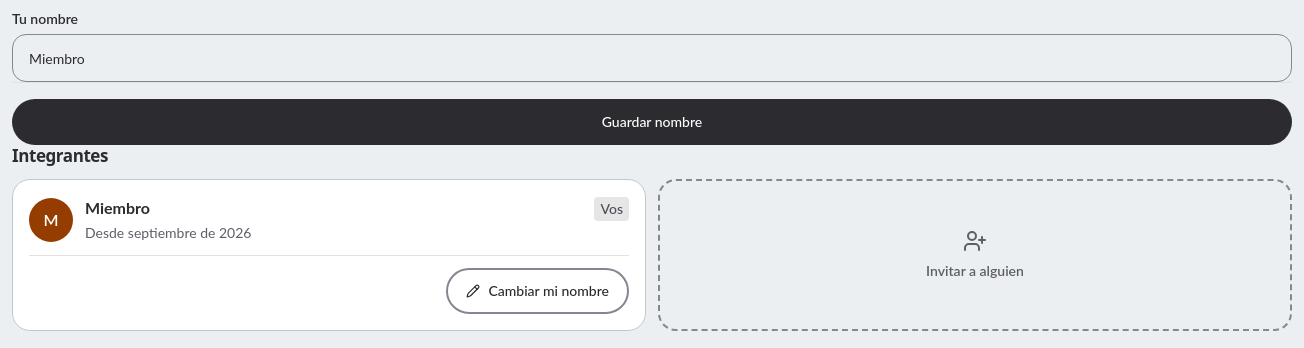
Scenario: EditDisplayNameForm › refreshes MemberList immediately after saving, without a page reload
Check: the text "Miembro" is shown, box 85,196 -> 150,220
Replace the text in the field labelled "Tu nombre" with "Leo Merlo" at (652, 58), box 12,34 -> 1292,82
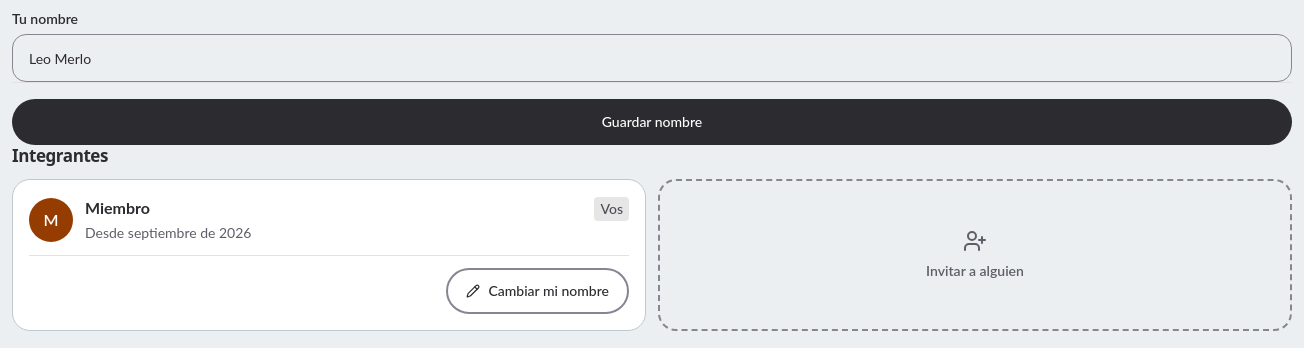
Click the button "Guardar nombre" at (652, 122), box 12,99 -> 1292,145
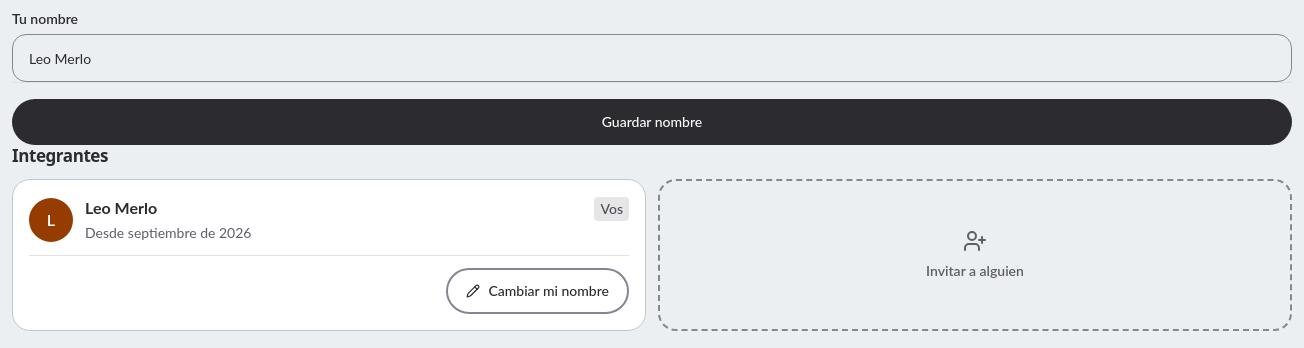
Check: the text "Leo Merlo" is shown, box 85,196 -> 157,220
Check: the text "Miembro" is gone
